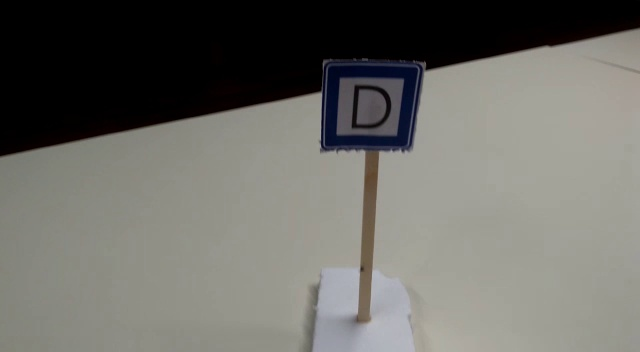durak: (322, 59, 424, 149)
